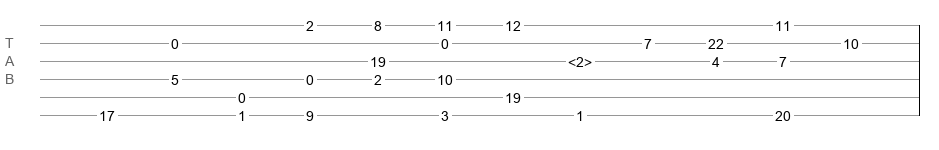0: (171, 36, 179, 46), (238, 90, 246, 100), (306, 72, 314, 82), (441, 36, 449, 46)
1: (238, 108, 246, 118), (576, 108, 584, 118)
10: (437, 72, 453, 82), (843, 36, 859, 46)
11: (437, 18, 453, 28), (775, 18, 791, 28)
12: (505, 18, 521, 28)
17: (99, 108, 115, 118)
19: (370, 54, 386, 64), (505, 90, 521, 100)
2: (306, 18, 314, 28), (374, 72, 382, 82)
20: (775, 108, 791, 118)
22: (708, 36, 724, 46)
3: (441, 108, 449, 118)
4: (712, 54, 720, 64)
5: (171, 72, 179, 82)
7: (644, 36, 652, 46), (779, 54, 787, 64)
8: (374, 18, 382, 28)
9: (306, 108, 314, 118)
harmonic: (568, 54, 592, 64)
